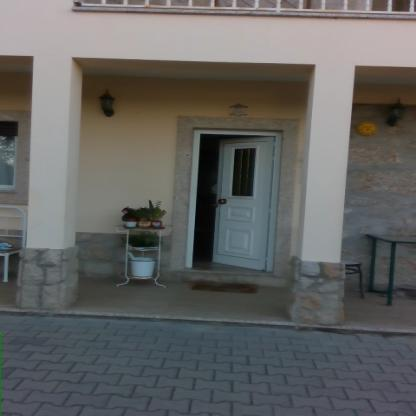semi: (178, 122, 288, 282)
